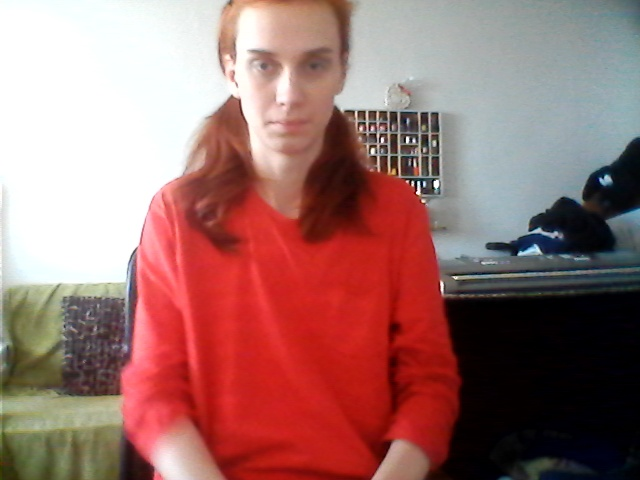h: (530, 328, 573, 355)
